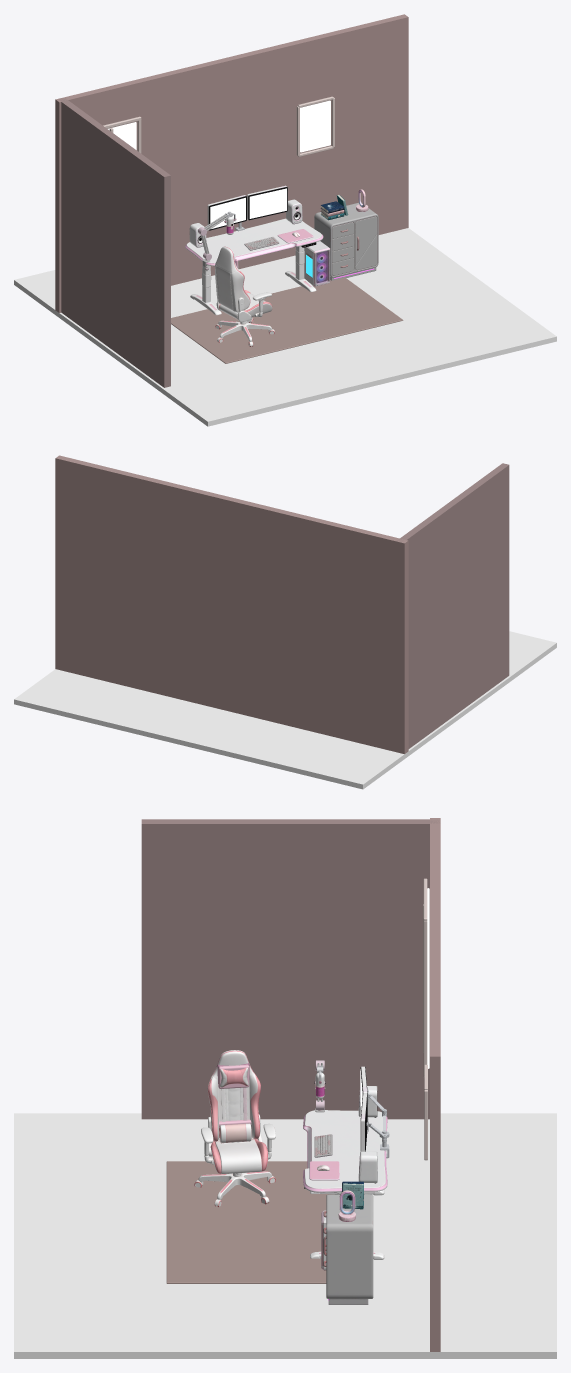
3 renders of one model, top to bottom at view 1: azimuth 30°, elevation 25°; view 2: azimuth 150°, elevation 25°; view 3: azimuth 270°, elevation 25°, orthographic. The views are drawn at different scales.
Parts seen in each view (by area): view 1: Architecture_Back_Wall, Architecture_Floor, Architecture_Left_Wall, Decor_Rug, GEO_Desk_Moving_Top, GEO_Chair_Swivel_Upper, GEO_Cabinet_Body, Wall_Art_Art, GEO_Door_Right_Front, 04-pc-tower_mesh_01, Screen_Right, GEO_Desk_Fixed_Base (+2 smaller); view 2: Architecture_Back_Wall, Architecture_Left_Wall, Architecture_Floor; view 3: Architecture_Floor, Architecture_Left_Wall, Decor_Rug, Architecture_Back_Wall, GEO_Chair_Swivel_Upper, GEO_Cabinet_Body, GEO_Desk_Moving_Top, GEO_Chair_Static_Base, Window_Frame_V.001.
Part boxes in pixels (x1,y1,x2,y2): Architecture_Back_Wall: (55, 14, 408, 312); Architecture_Floor: (14, 228, 556, 426); Architecture_Left_Wall: (58, 98, 170, 387); Decor_Rug: (171, 277, 403, 363); GEO_Desk_Moving_Top: (185, 218, 323, 274); GEO_Chair_Swivel_Upper: (215, 246, 272, 321); GEO_Cabinet_Body: (314, 202, 378, 280); Wall_Art_Art: (300, 100, 330, 152); GEO_Door_Right_Front: (355, 216, 377, 270); 04-pc-tower_mesh_01: (304, 241, 330, 286); Screen_Right: (249, 188, 286, 218); GEO_Desk_Fixed_Base: (190, 263, 316, 315); Architecture_Back_Wall: (55, 455, 408, 753); Architecture_Left_Wall: (396, 463, 509, 748); Architecture_Floor: (14, 631, 556, 789); Architecture_Floor: (14, 1113, 556, 1358); Architecture_Left_Wall: (141, 819, 440, 1119); Decor_Rug: (166, 1161, 334, 1283); Architecture_Back_Wall: (430, 818, 440, 1351); GEO_Chair_Swivel_Upper: (201, 1050, 275, 1173); GEO_Cabinet_Body: (326, 1194, 373, 1304); GEO_Desk_Moving_Top: (303, 1110, 387, 1194); GEO_Chair_Static_Base: (194, 1171, 275, 1206); Window_Frame_V.001: (423, 921, 427, 1075).
Size of the model in its own units: 5.2 by 3.07 by 5.
Materials: 32 (13 with a texture image).
